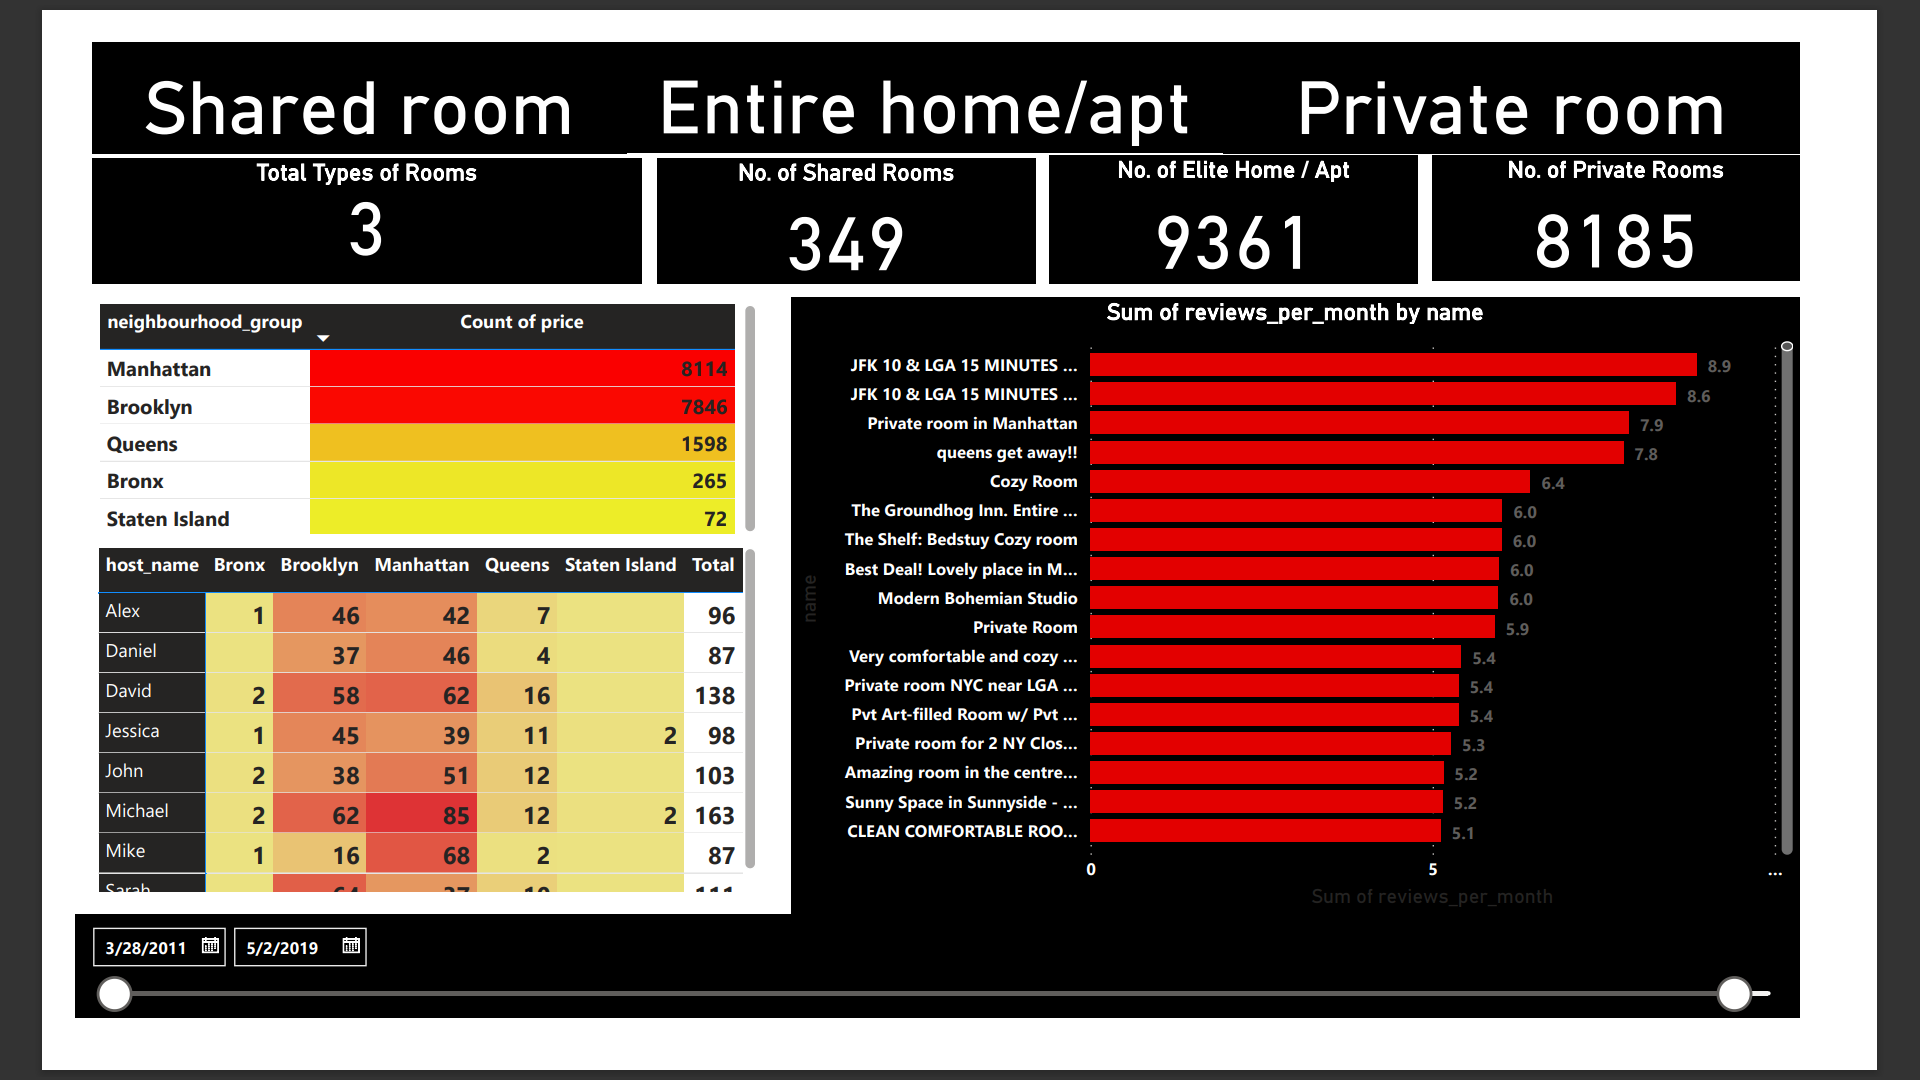

This screenshot's page, from the dashboard's own definition file:
{"tool":"powerbi","page":{"name":"Analysis","canvas":[1280,720],"ordinal":1},"visuals":[{"type":"card","fields":{"Values":["Min(AB_NYC_2019.room_type)"]},"box":[12.3,0,386.6,80.9],"z":0},{"type":"card","fields":{"Values":["Min(AB_NYC_2019.room_type)"]},"box":[830.9,0,416.8,80.9],"z":1000},{"type":"card","fields":{"Values":["Min(AB_NYC_2019.room_type)"]},"box":[399,0,431.9,79.5],"z":2000},{"type":"card","title":"Total Types of Rooms","fields":{"Values":["Count(AB_NYC_2019.room_type)"]},"box":[12.3,83.6,397.6,91.9],"z":3000},{"type":"card","title":"No. of Shared Rooms","fields":{"Values":["CountNonNull(AB_NYC_2019.room_type)"]},"box":[420.9,83.6,274.2,91.9],"z":3001},{"type":"card","title":"No. of Private Rooms","fields":{"Values":["CountNonNull(AB_NYC_2019.room_type)"]},"box":[981.7,82.3,266,90.5],"z":3002},{"type":"card","title":"No. of Elite Home / Apt","fields":{"Values":["CountNonNull(AB_NYC_2019.room_type)"]},"box":[704.7,82.3,267.4,93.2],"z":3003},{"type":"slicer","fields":{"Values":["AB_NYC_2019.last_review"]},"box":[0,630.7,1247.7,75.4],"z":3004},{"type":"tableEx","fields":{"Values":["AB_NYC_2019.neighbourhood_group","CountNonNull(AB_NYC_2019.price)"]},"box":[12.3,185.1,485.4,175.5],"z":3005},{"type":"pivotTable","fields":{"Rows":["AB_NYC_2019.host_name"],"Columns":["AB_NYC_2019.neighbourhood_group"],"Values":["CountNonNull(AB_NYC_2019.calculated_host_listings_count)"]},"box":[12.3,360.6,485.4,259.1],"z":3006},{"type":"barChart","fields":{"Category":["AB_NYC_2019.name"],"Y":["Sum(AB_NYC_2019.reviews_per_month)"]},"box":[518.3,185.1,729.4,445.6],"z":3007}]}

Visuals, with their boxes in screenshot pixels (x1, y1, x2, y2), scaled from the page's 1280x720 canvas onto the 1920x1080 screenshot:
card - Min(AB_NYC_2019.room_type): x1=18, y1=0, x2=598, y2=121
card - Min(AB_NYC_2019.room_type): x1=1246, y1=0, x2=1872, y2=121
card - Min(AB_NYC_2019.room_type): x1=598, y1=0, x2=1246, y2=119
"Total Types of Rooms" card: x1=18, y1=125, x2=615, y2=263
"No. of Shared Rooms" card: x1=631, y1=125, x2=1043, y2=263
"No. of Private Rooms" card: x1=1473, y1=123, x2=1872, y2=259
"No. of Elite Home / Apt" card: x1=1057, y1=123, x2=1458, y2=263
slicer - AB_NYC_2019.last_review: x1=0, y1=946, x2=1872, y2=1059
tableEx - AB_NYC_2019.neighbourhood_group x CountNonNull(AB_NYC_2019.price): x1=18, y1=278, x2=747, y2=541
pivotTable - AB_NYC_2019.host_name x AB_NYC_2019.neighbourhood_group: x1=18, y1=541, x2=747, y2=930
barChart - AB_NYC_2019.name x Sum(AB_NYC_2019.reviews_per_month): x1=777, y1=278, x2=1872, y2=946
